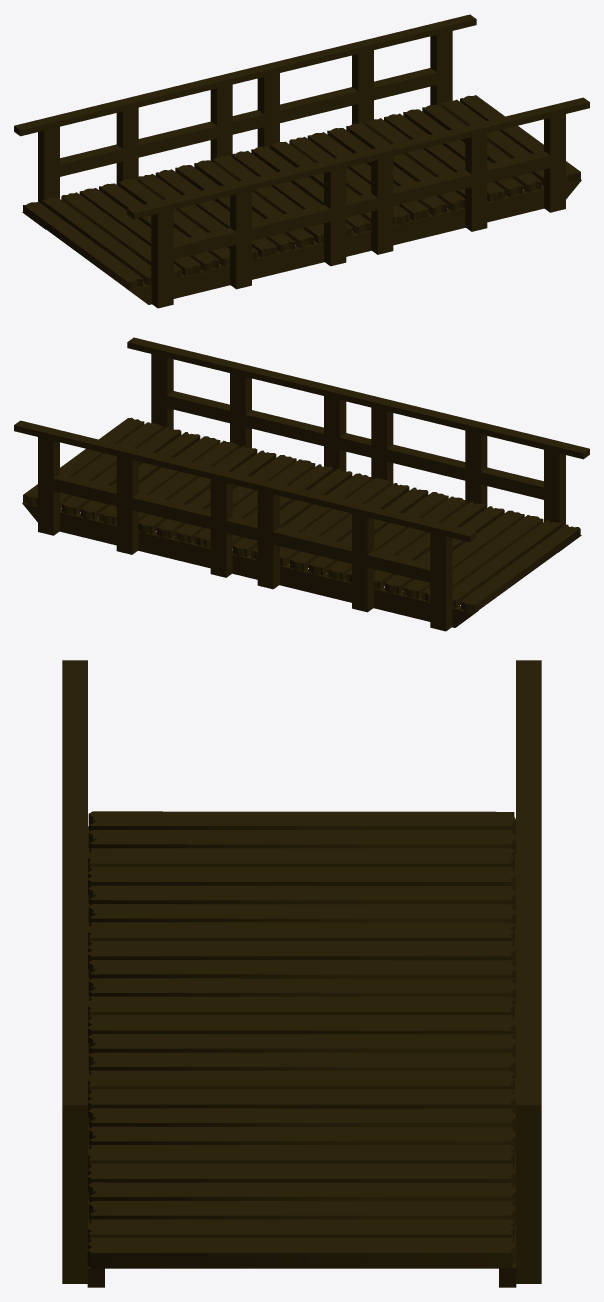
The model's file is VillageBridge_RJ_2709.fbx.
3 views of the same model, one above another, from view 1: azimuth 30°, elevation 25°; view 2: azimuth 150°, elevation 25°; view 3: azimuth 270°, elevation 25° (orthographic). The views are drawn at different scales.
Visible parts, largest first — view 1: VillageBridge_RJ2709; view 2: VillageBridge_RJ2709; view 3: VillageBridge_RJ2709.
Boxes of the visible parts, <box> form: VillageBridge_RJ2709: <box>14,14,589,308</box>; VillageBridge_RJ2709: <box>14,337,589,631</box>; VillageBridge_RJ2709: <box>62,660,541,1287</box>.
Size of the model in its own units: 615 by 280 by 131.
